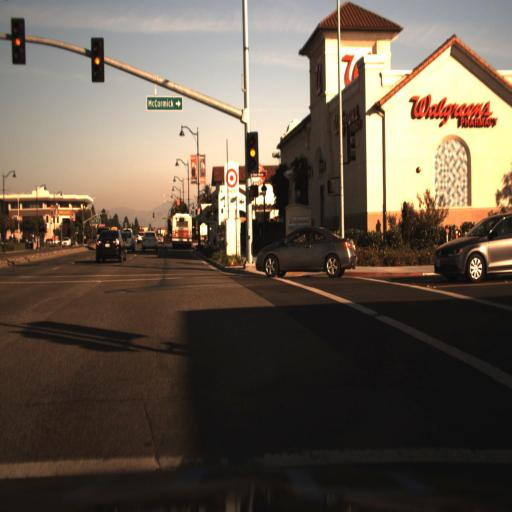car: (256, 226, 357, 277), (432, 220, 507, 282), (93, 227, 127, 264), (139, 228, 159, 254)
trafficLight-Yellow: (12, 14, 26, 66), (92, 35, 106, 86), (245, 131, 260, 174), (246, 129, 262, 167)
truck: (170, 210, 195, 248), (170, 211, 192, 250)
